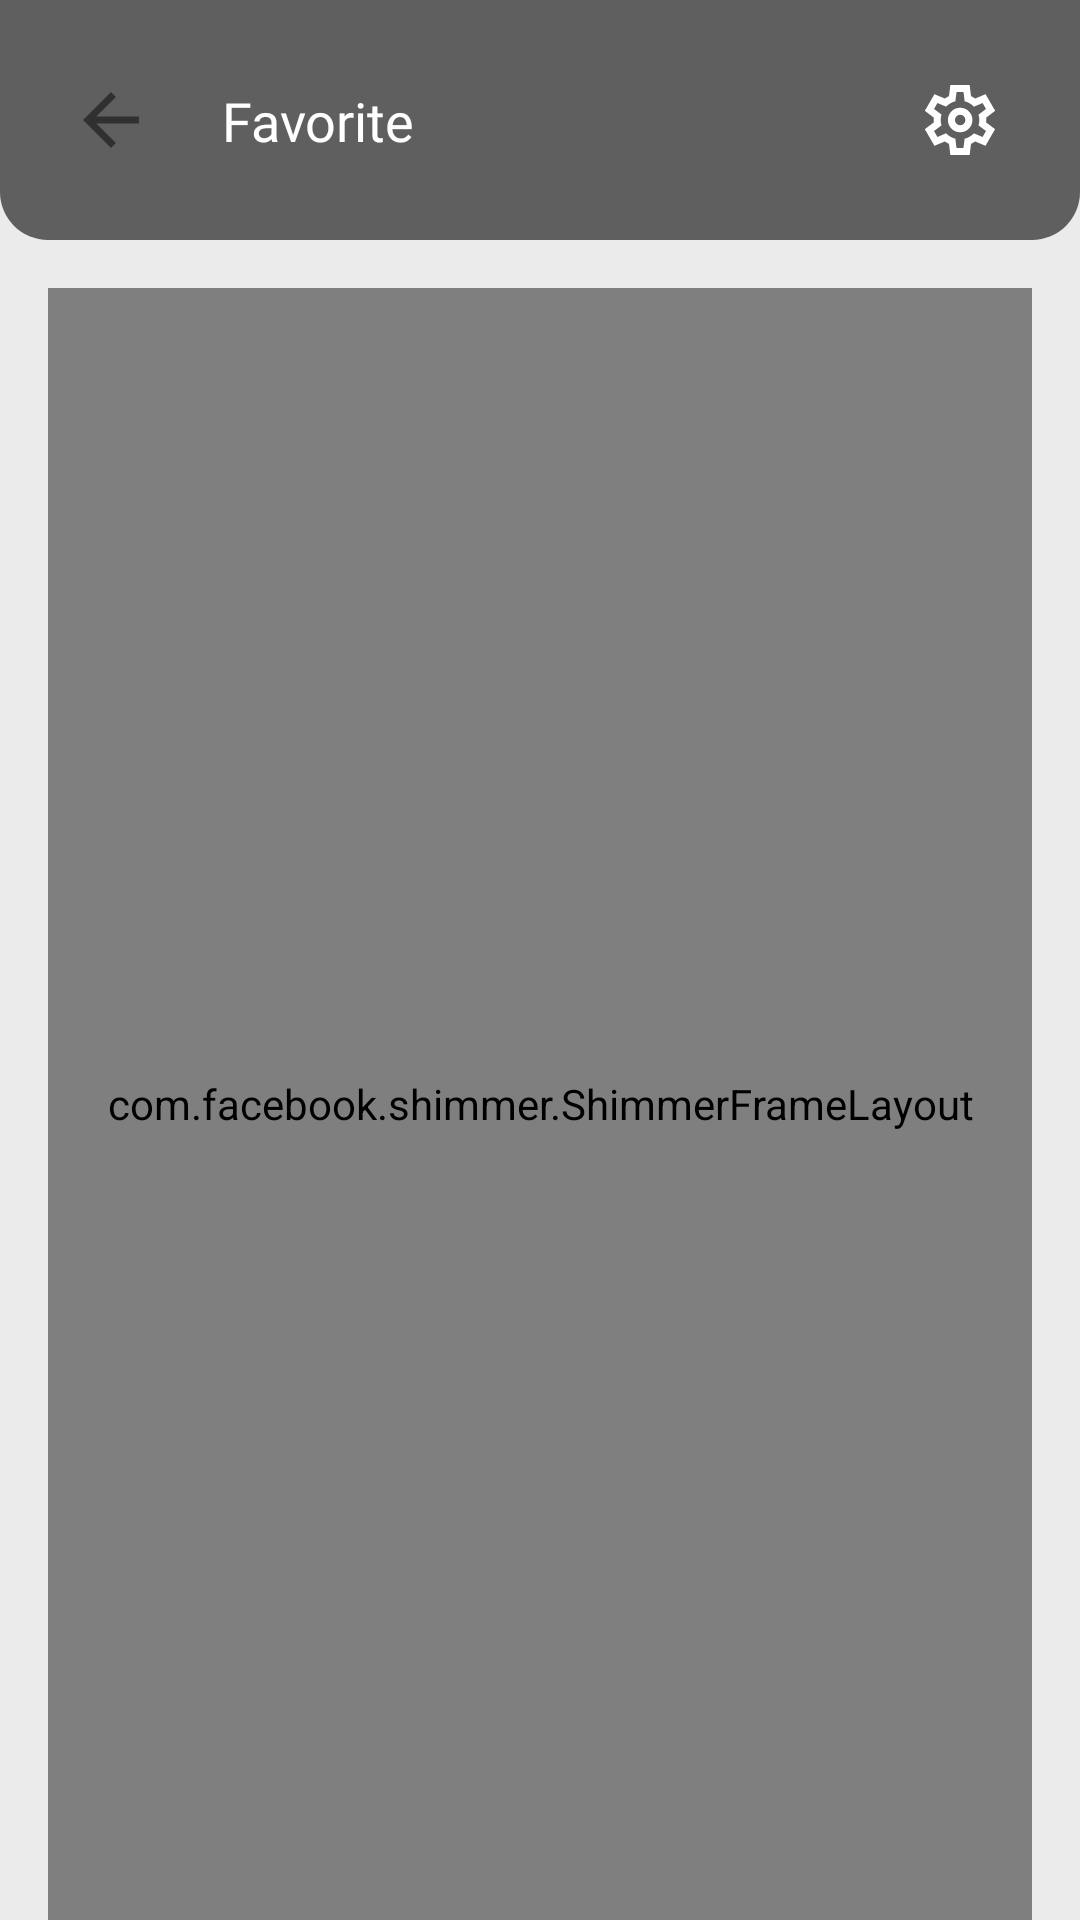

Point at icon controls on the screen. Image size 1080px×1920px, points as (x=x, y=y).
arrow back: (x=111, y=120)
settings: (x=960, y=120)
